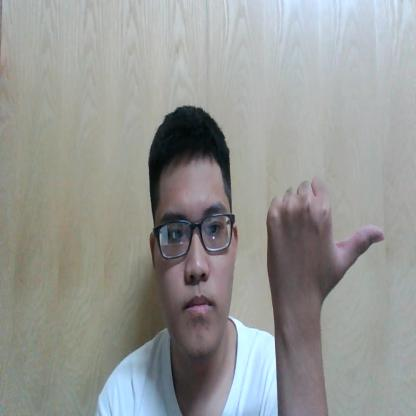left: (264, 170, 388, 310)
